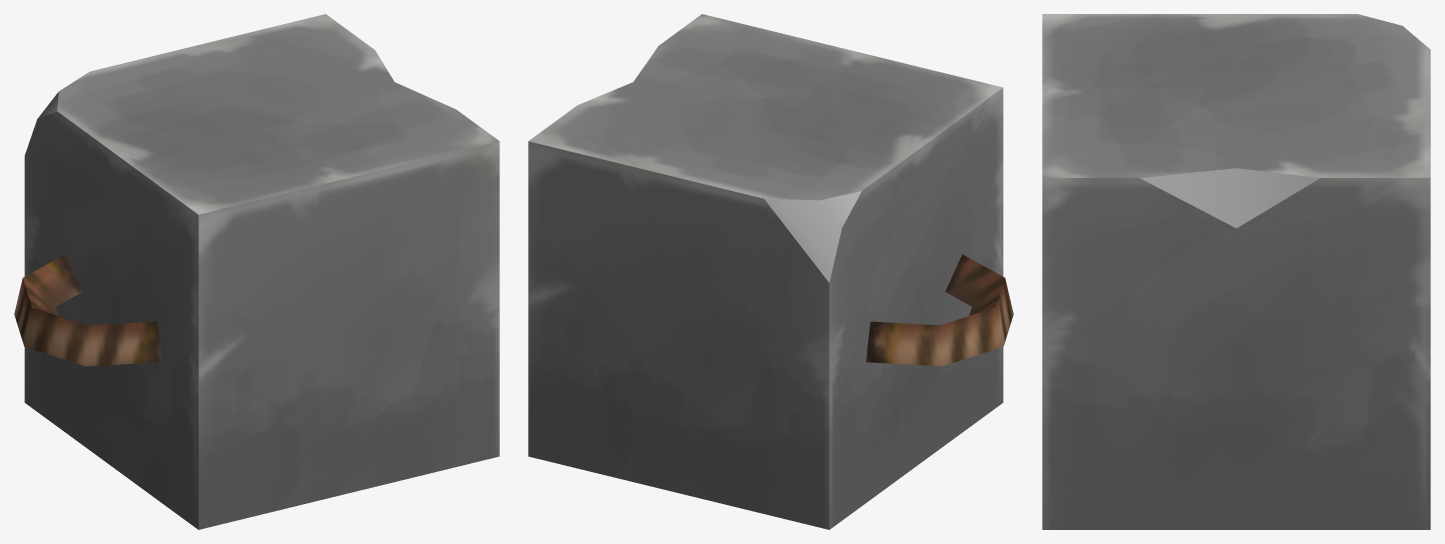
Rendered from foundation_container01.fbx.
3 renders of one model, left to right at view 1: azimuth 30°, elevation 25°; view 2: azimuth 150°, elevation 25°; view 3: azimuth 270°, elevation 25°, orthographic. The views are drawn at different scales.
Visible parts, largest first — view 1: foundation_container01; view 2: foundation_container01; view 3: foundation_container01.
Part boxes in pixels (box(x1,y1,x2,y2)): foundation_container01: box(14, 14, 499, 529); foundation_container01: box(528, 14, 1013, 529); foundation_container01: box(1042, 14, 1430, 529).
Size of the model in its own units: 64.49 by 50 by 50.
